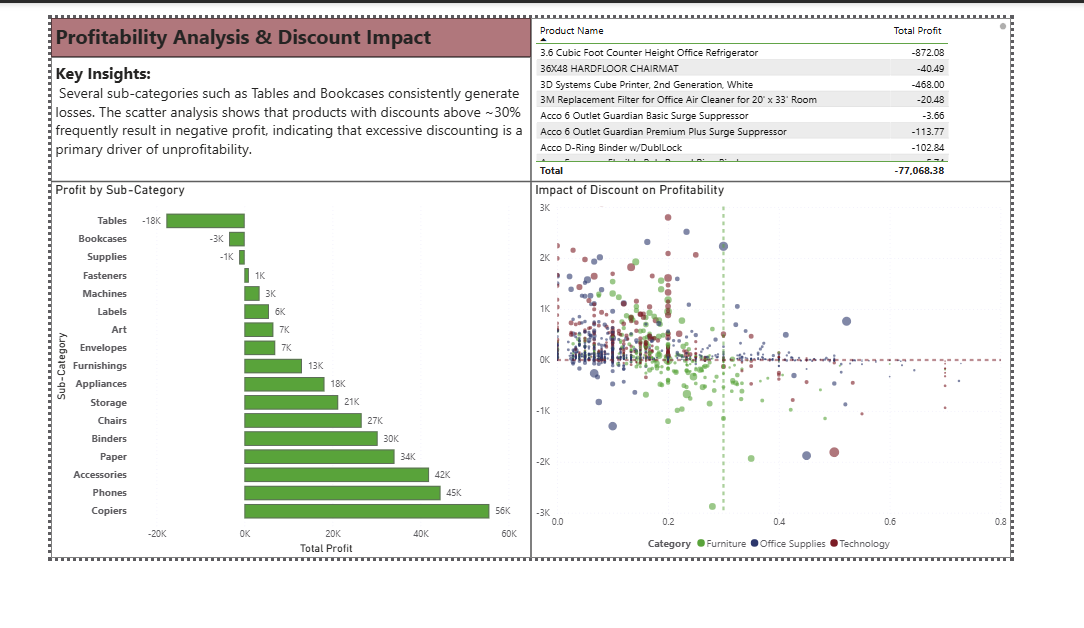

The dashboard page shown, as its layout file describes it:
{"tool":"powerbi","page":{"name":"Profitability Analysis","canvas":[1280,720],"ordinal":1},"visuals":[{"type":"barChart","title":"Profit by Sub-Category","fields":{"Category":["Superstore.Sub-Category"],"Y":["Superstore.Total Profit"]},"box":[0,218,640,502],"z":0},{"type":"tableEx","fields":{"Values":["Superstore.Product Name","Superstore.Total Profit"]},"box":[640,0,640,218],"z":1},{"type":"scatterChart","title":"Impact of Discount on Profitability","fields":{"X":["Avg(Superstore.Discount)"],"Category":["Superstore.Product Name"],"Y":["Sum(Superstore.Profit)"],"Series":["Superstore.Category"],"Size":["Sum(Superstore.Sales)"]},"box":[640,218,640,502],"z":2},{"type":"textbox","box":[0,0,640,52],"z":3},{"type":"textbox","box":[0,52,640,166],"z":4}]}

Visuals, with their boxes in screenshot pixels (x1, y1, x2, y2), scaled from the page's 1280x720 canvas onto the 1084x628 screenshot:
"Profit by Sub-Category" barChart: [0,190,542,627]
tableEx - Superstore.Product Name x Superstore.Total Profit: [542,0,1083,190]
"Impact of Discount on Profitability" scatterChart: [542,190,1083,627]
textbox: [0,0,542,45]
textbox: [0,45,542,190]
